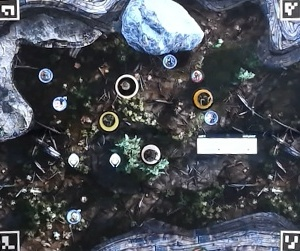black: (114, 74, 138, 97)
lime_green_violet: (98, 109, 121, 132)
white: (140, 144, 163, 167)
yellow_night_blue: (194, 87, 217, 110)
